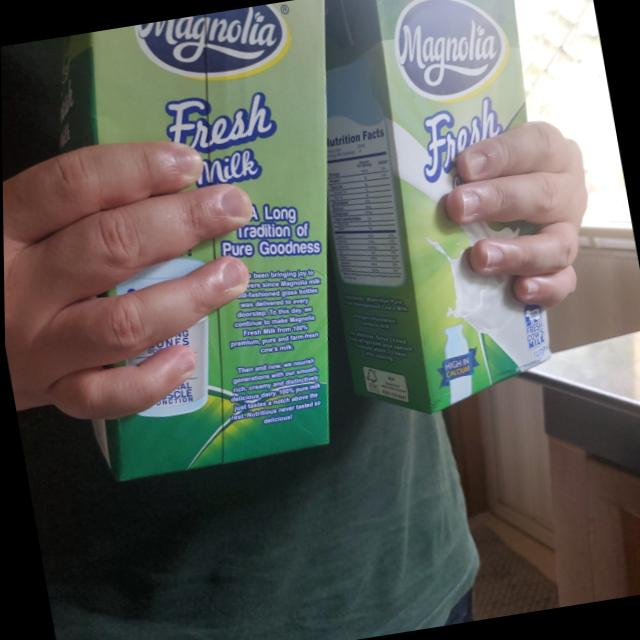milk: (24, 0, 402, 480), (280, 0, 582, 425)
